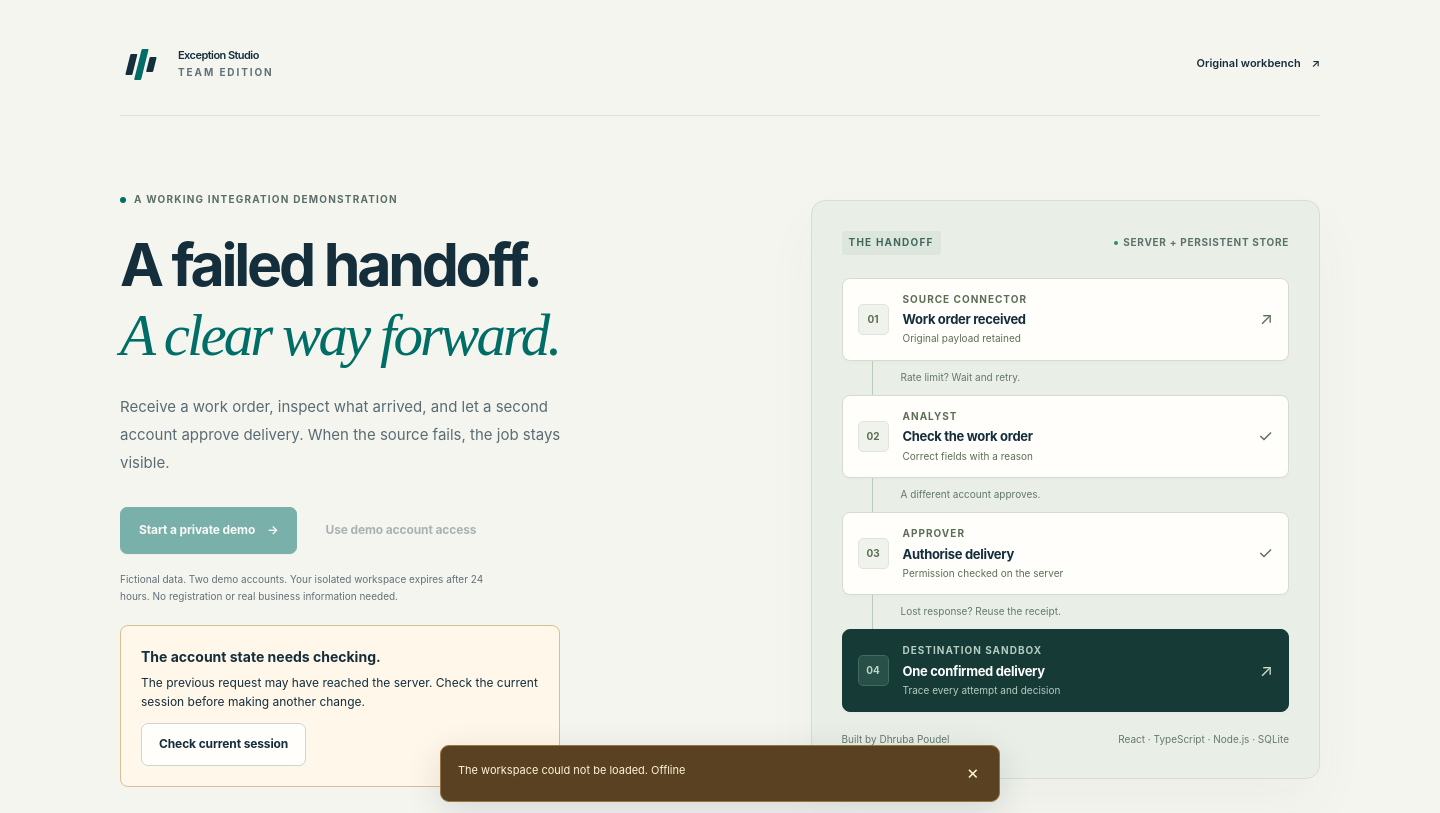
Test: Team edition account boundary › shows an error without fake workspace data and can safely check the session again
Expected: the text "The workspace could not be loaded. Offline" is shown, [458,763,686,777]
Expected: the button "Start a private demo →" is disabled, [120,507,298,554]
What coordinates should you click on to do the following:
click the button "Check current session"
I would click on:
 (224, 745)
Its box is [141,723,306,766].
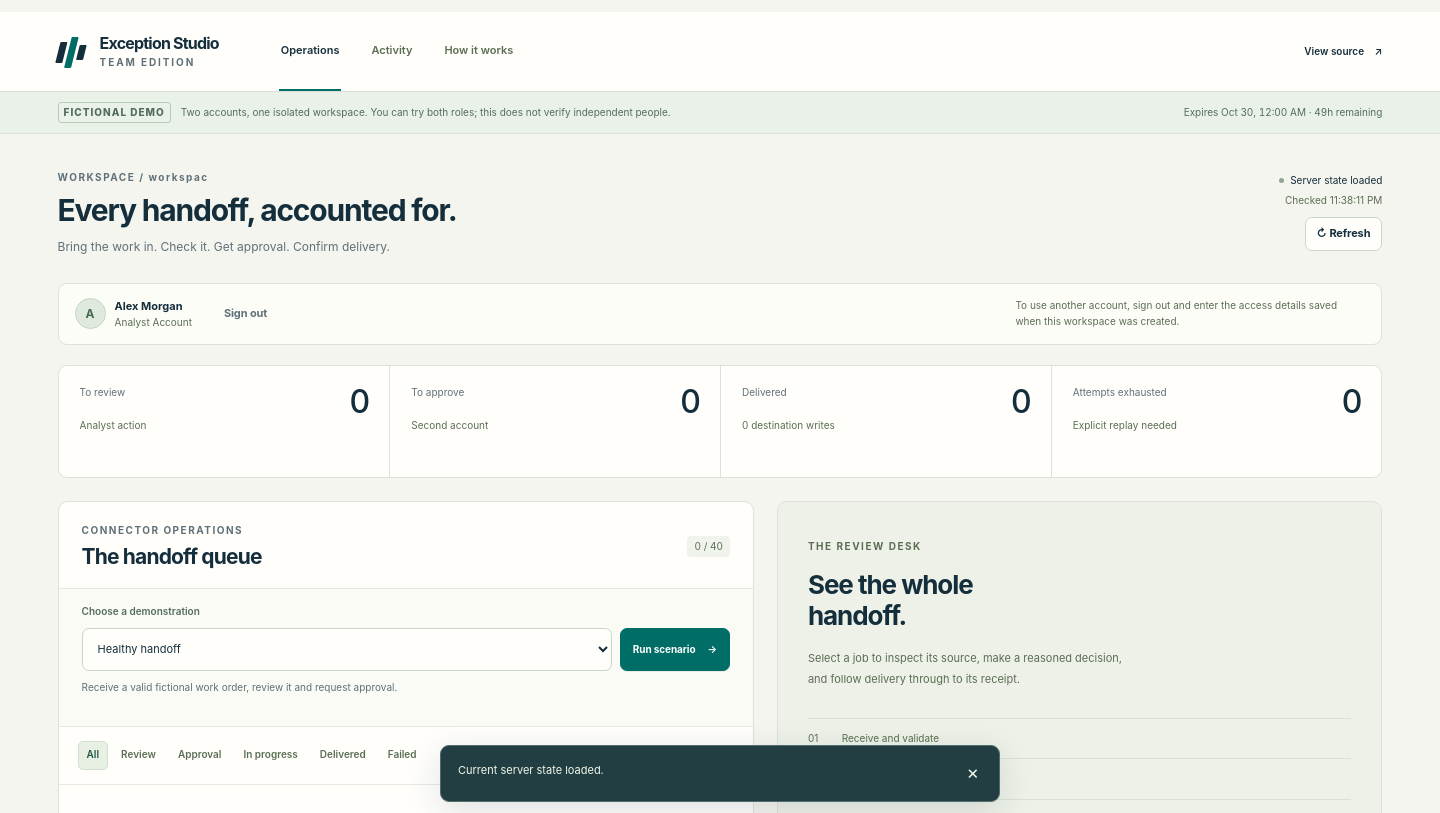
Expected: the heading "Every handoff, accounted for." is shown, [58,193,456,228]
